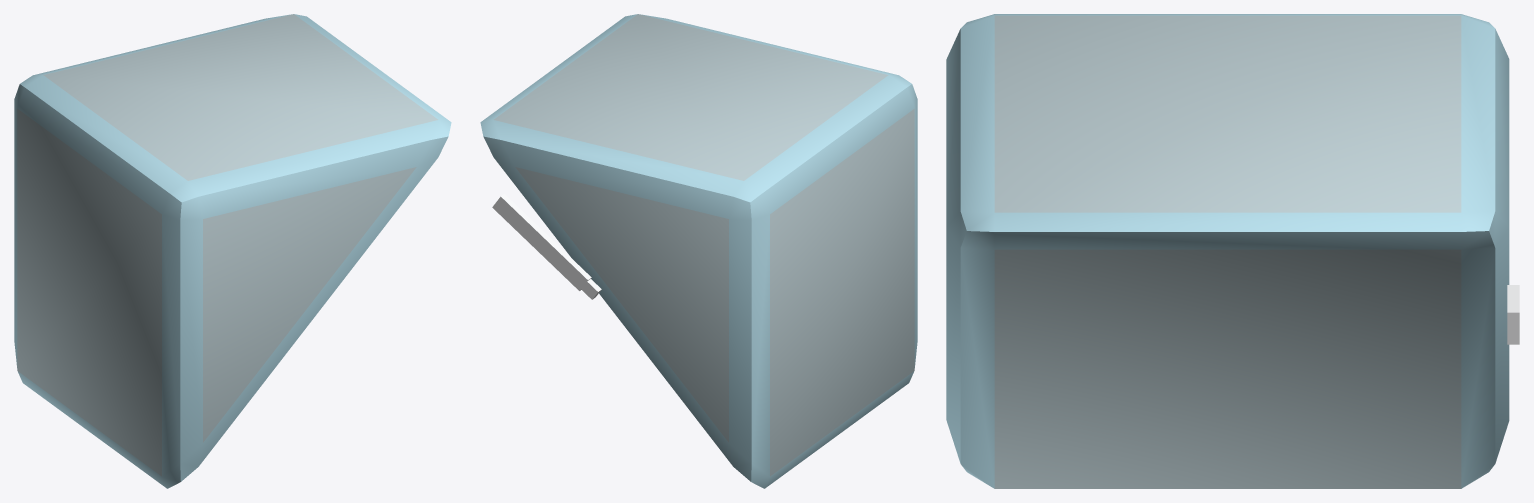
Rendered from TriangleSmallIce.fbx.
The picture shows the model from 3 angles, left to right: view 1: azimuth 30°, elevation 25°; view 2: azimuth 150°, elevation 25°; view 3: azimuth 270°, elevation 25°; orthographic projection. The views are drawn at different scales.
Visible parts, largest first — view 1: TriangleSmallIce; view 2: TriangleSmallIce; view 3: TriangleSmallIce.
Boxes of the visible parts, x1,y1,x2,y2 form: TriangleSmallIce: [14, 14, 451, 488]; TriangleSmallIce: [480, 14, 917, 488]; TriangleSmallIce: [946, 14, 1519, 488].
Bounding box in the file's own units: 1.34 × 1.34 × 1.42.
